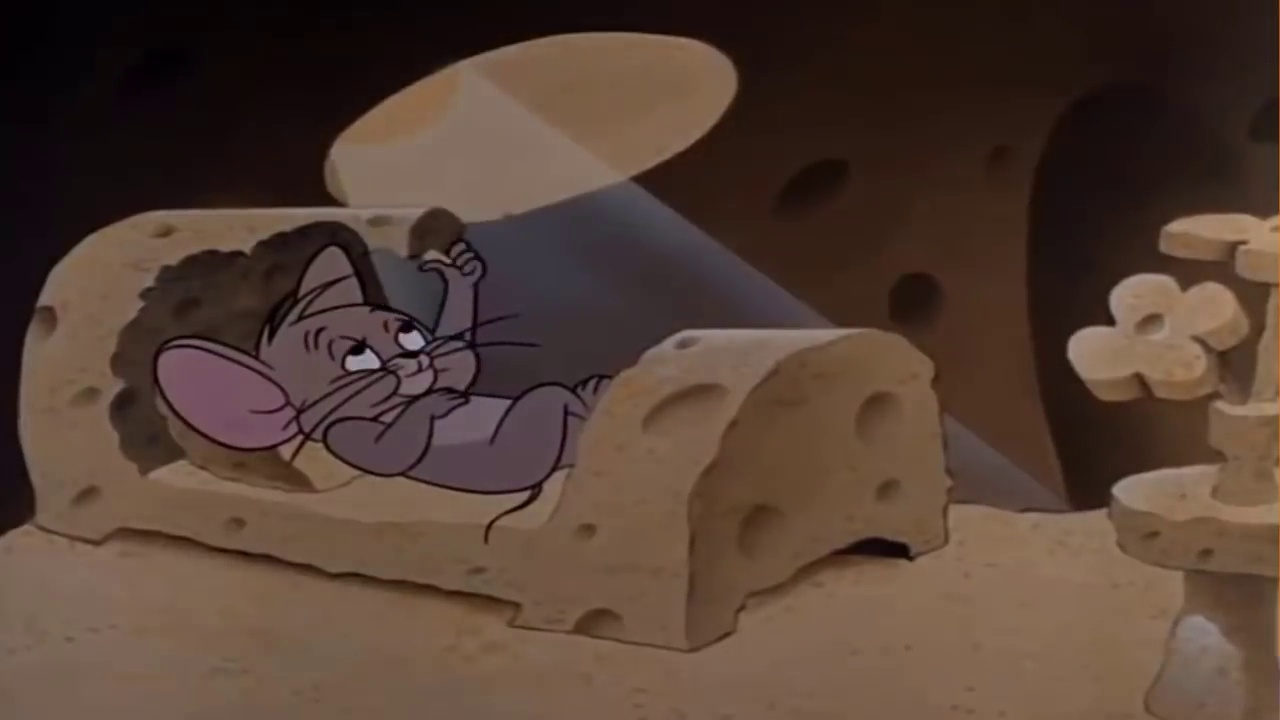face: (298, 308, 442, 408)
